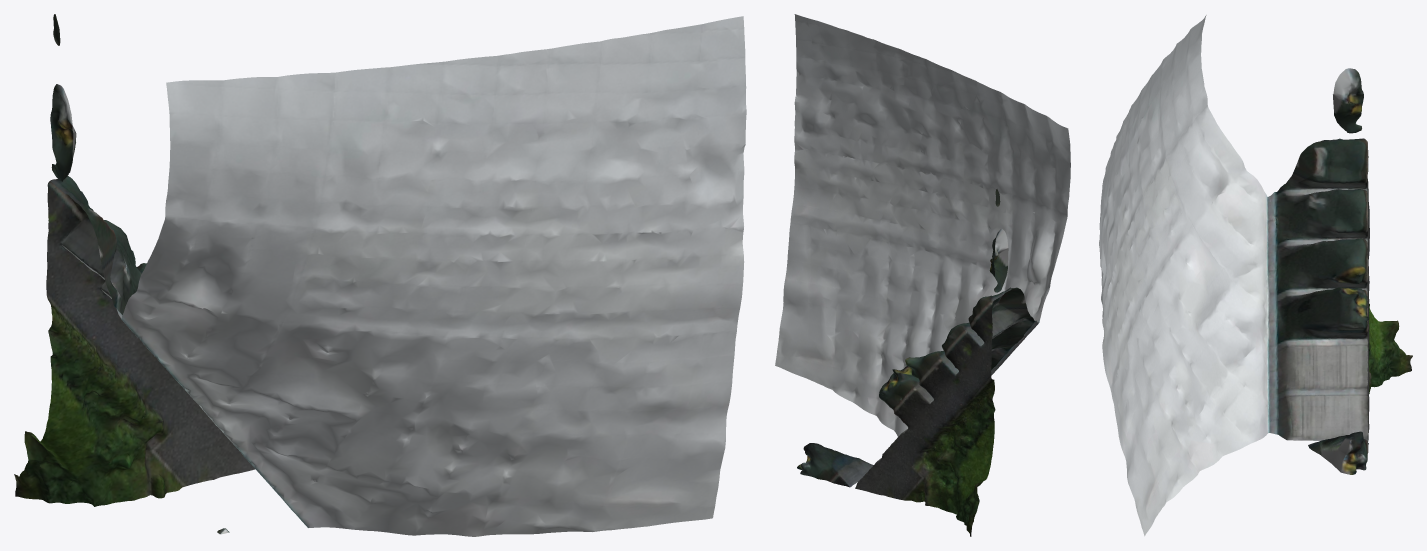
File: Tile_+011_+009.fbx
3 renders of one model, left to right at view 1: azimuth 30°, elevation 25°; view 2: azimuth 150°, elevation 25°; view 3: azimuth 270°, elevation 25°, orthographic. The views are drawn at different scales.
Parts seen in each view (by area): view 1: DefaultName; view 2: DefaultName; view 3: DefaultName.
Part boxes in pixels (box(x1,y1,x2,y2)): DefaultName: box(14, 14, 746, 536); DefaultName: box(775, 14, 1070, 536); DefaultName: box(1099, 15, 1412, 536).
Bounding box in the file's own units: 22.54 × 22.54 × 17.98.
